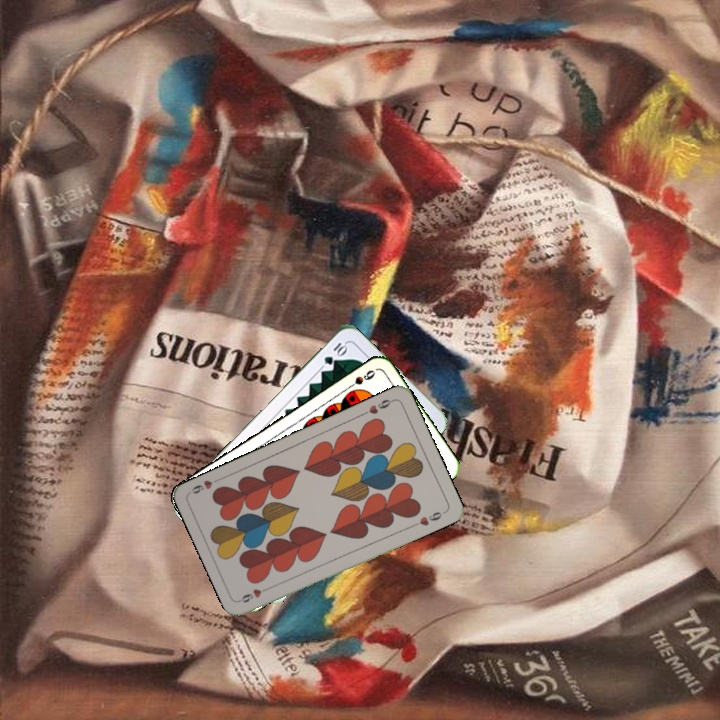G10: (320, 338, 350, 368)
H9: (236, 582, 275, 605), (359, 395, 397, 418)
S9: (341, 366, 378, 393)
